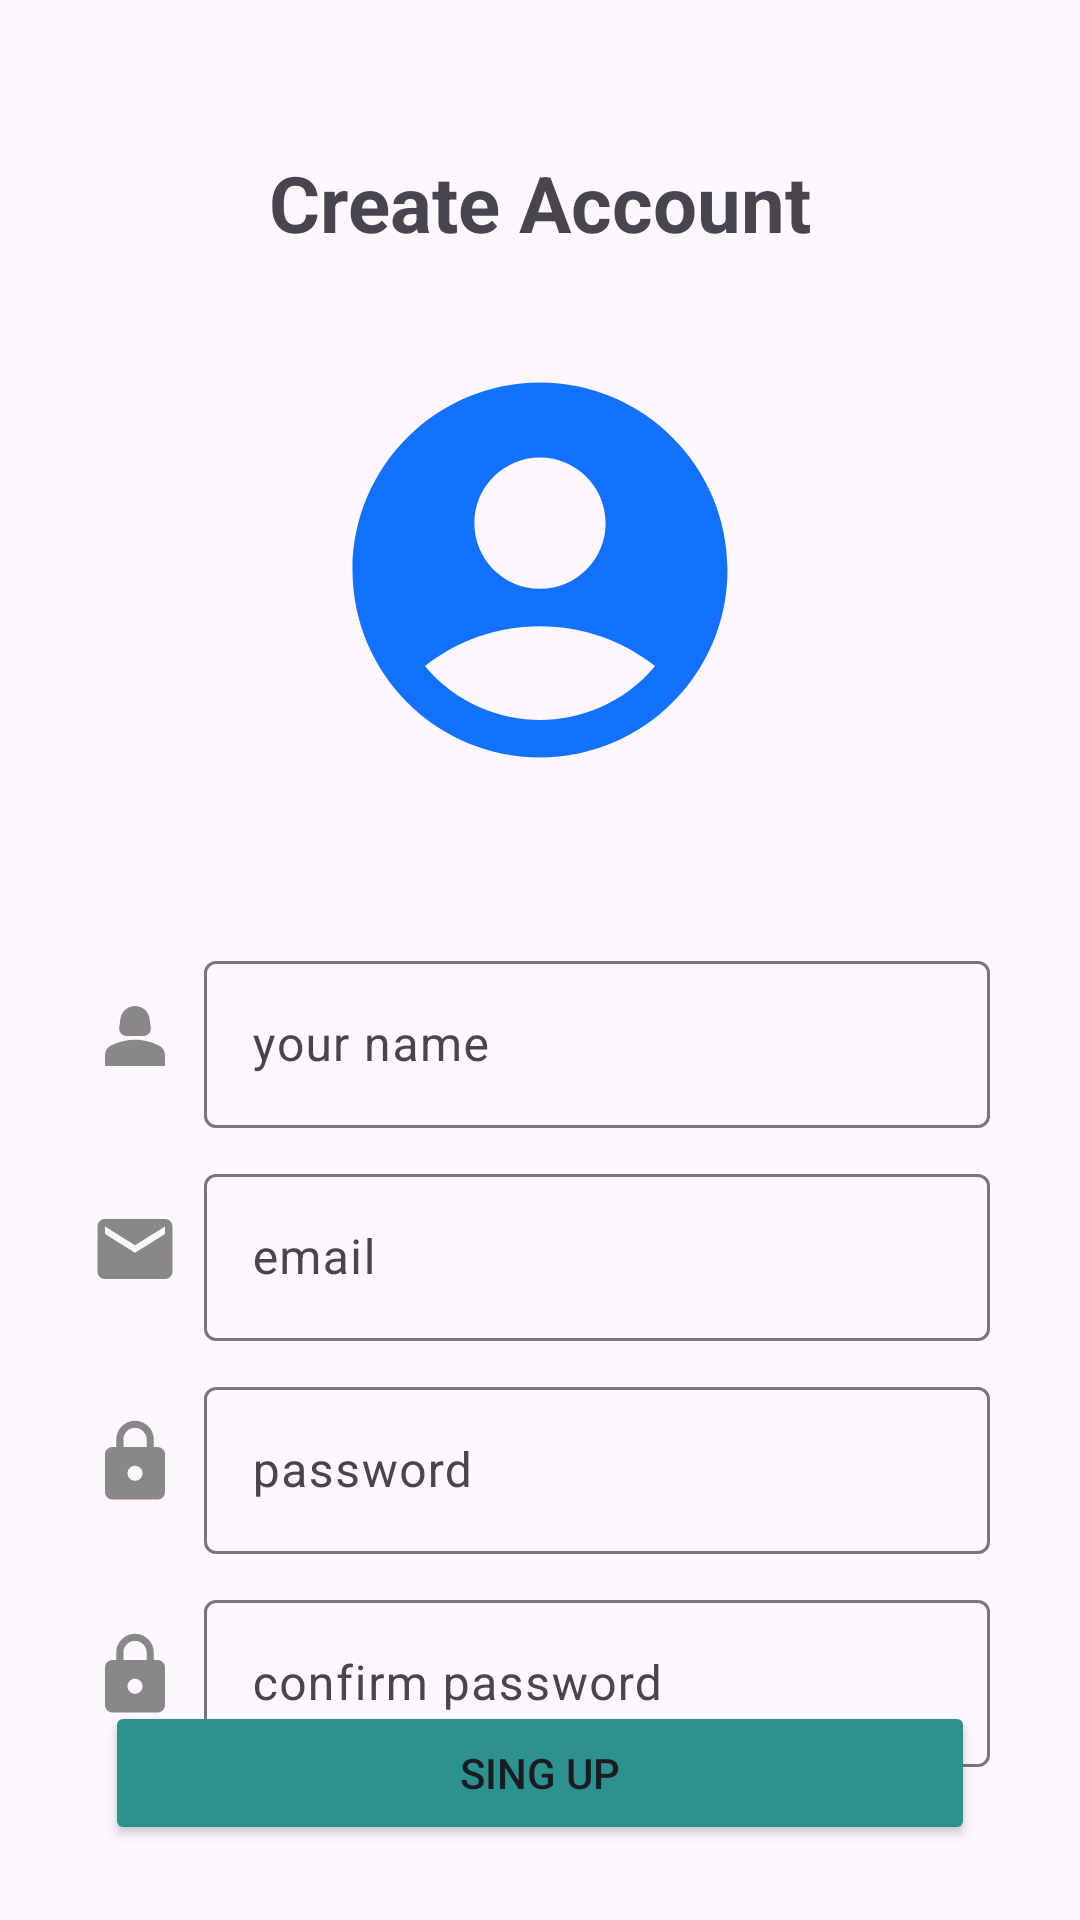

Where to tap for icons on this 1080x1920 app screen, as point (x, y):
lock: point (135, 1460), point (135, 1673)
person: point (135, 1036)
